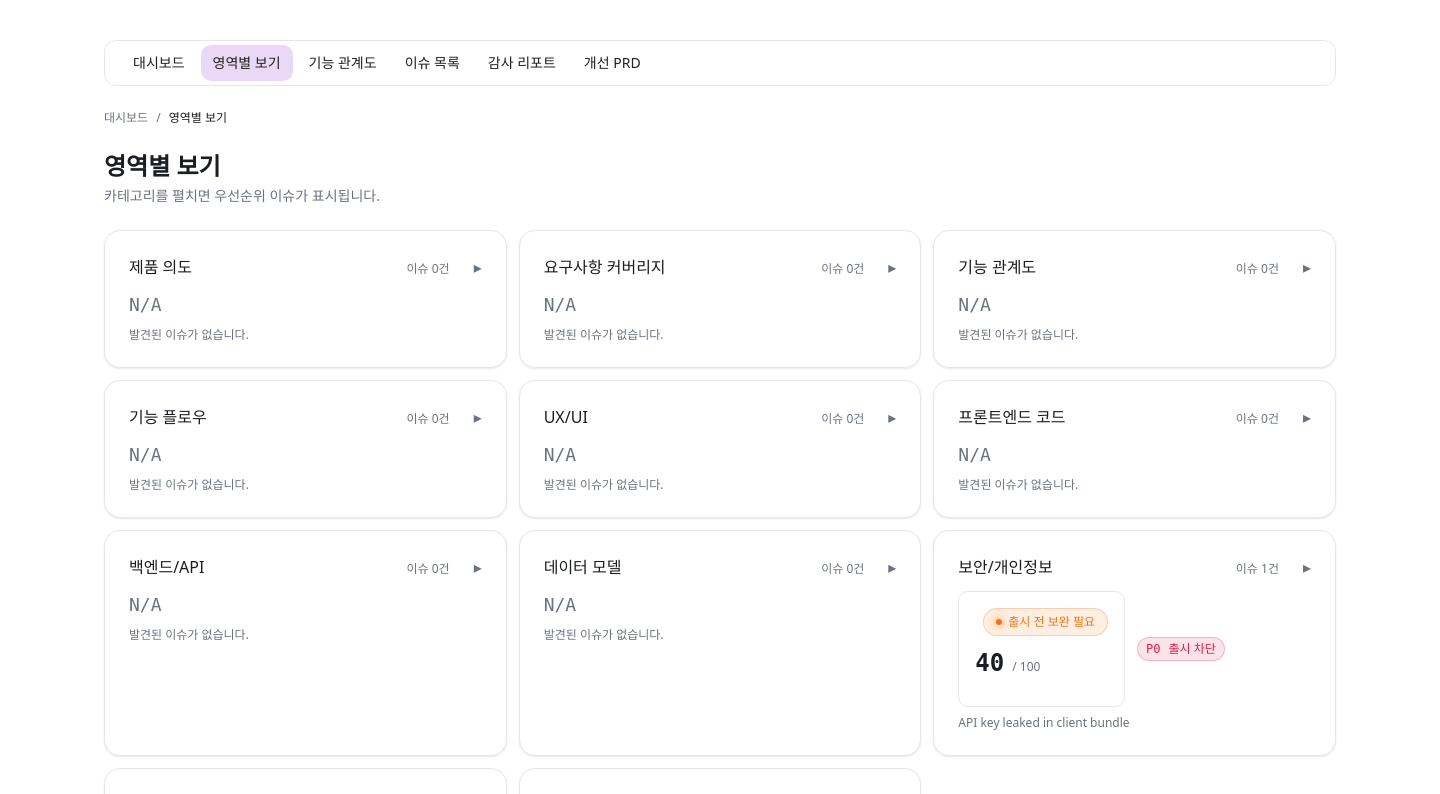
Test: CategoriesPage › expands an accordion panel on click (aria-expanded toggles to true)
Click the button "보안/개인정보" at point(1135, 643), box [958,555,1311,731]
(page scrolled)
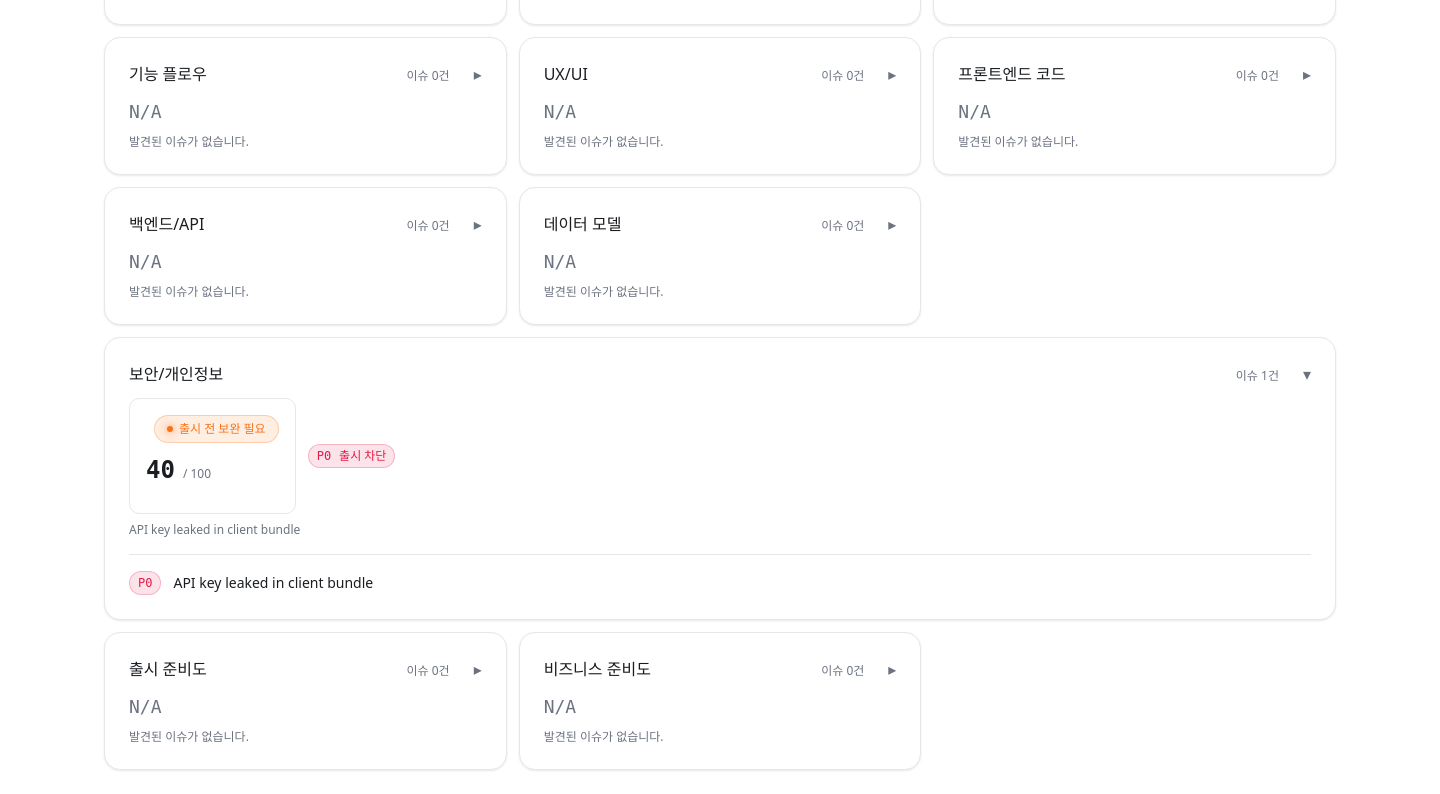
Check: the button "보안/개인정보" is expanded, box [129,362,1311,538]
